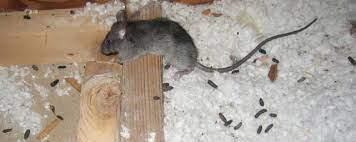rat: (100, 10, 318, 80)
